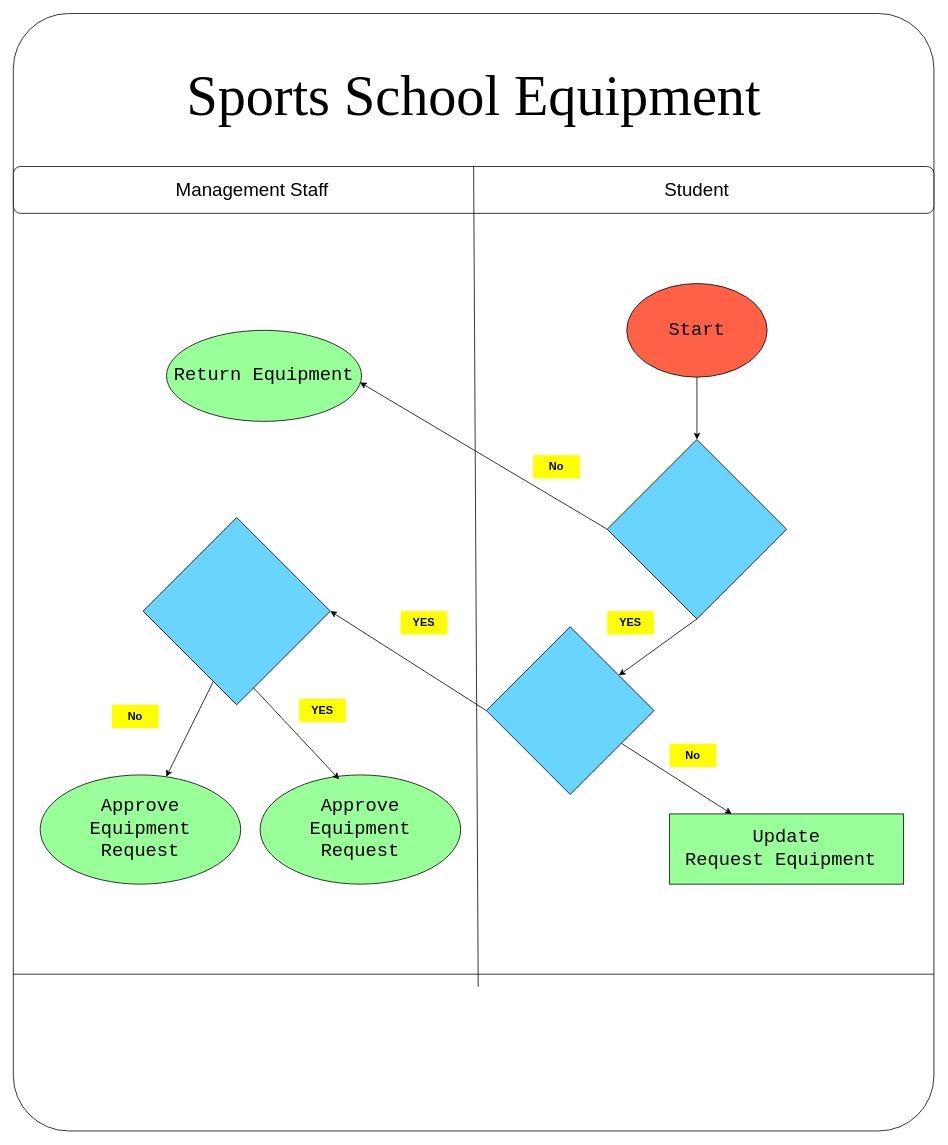
This 948x1145 diagram has some shape labels left out. Here are the shapes that lost their labels. From the top down, the box of each, then its label:
(606, 439, 787, 619): Request Equipment
(142, 517, 330, 705): Verify Equipment Request
(486, 626, 654, 794): Request Complete
